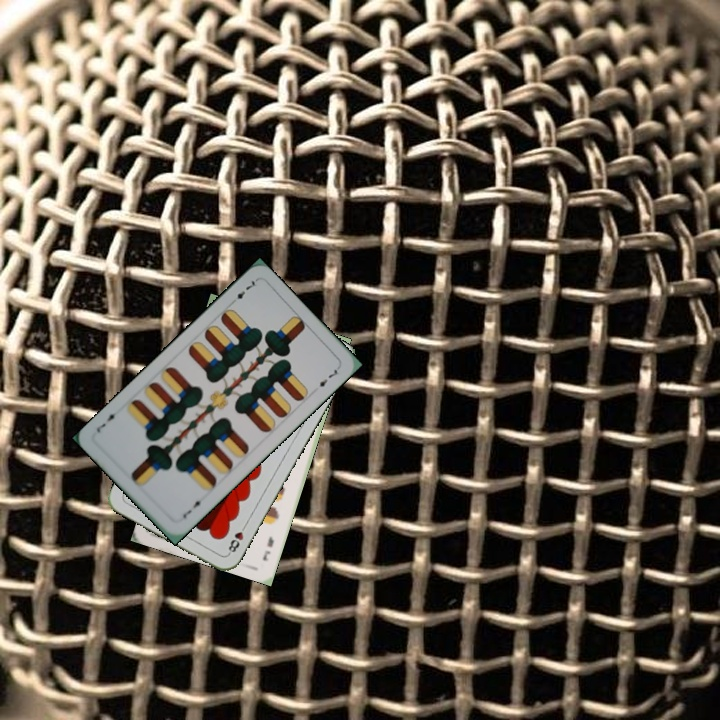E7: (226, 276, 259, 308), (179, 495, 207, 521), (259, 532, 277, 563)
H8: (224, 520, 249, 557)
